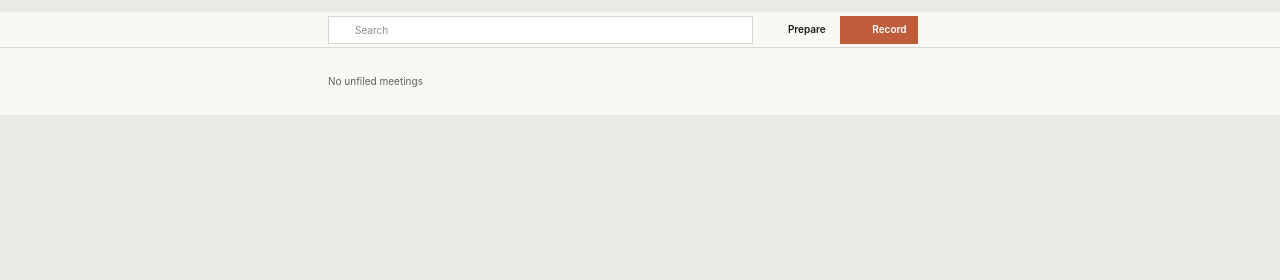
Test: ScribeApp › starts recording with one action and no participant attestation gate
What coordinates should you click on to do the following:
click the button "Record"
I would click on:
 (879, 30)
Its box is left=840, top=16, right=918, bottom=44.
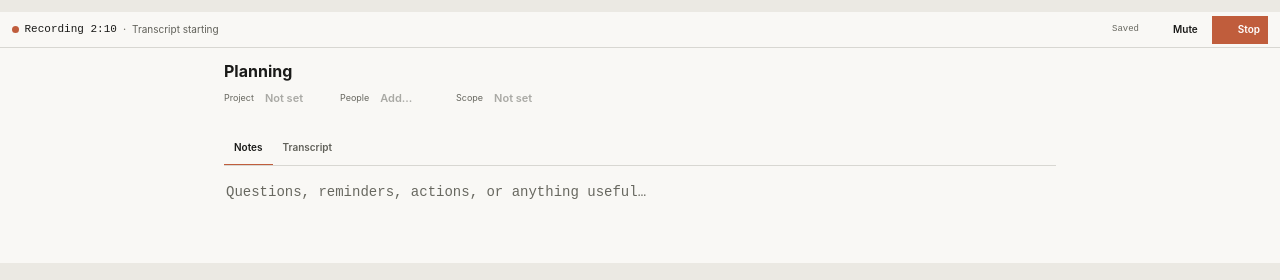
Expected: the button "Stop" is shown, left=1212, top=16, right=1268, bottom=44
